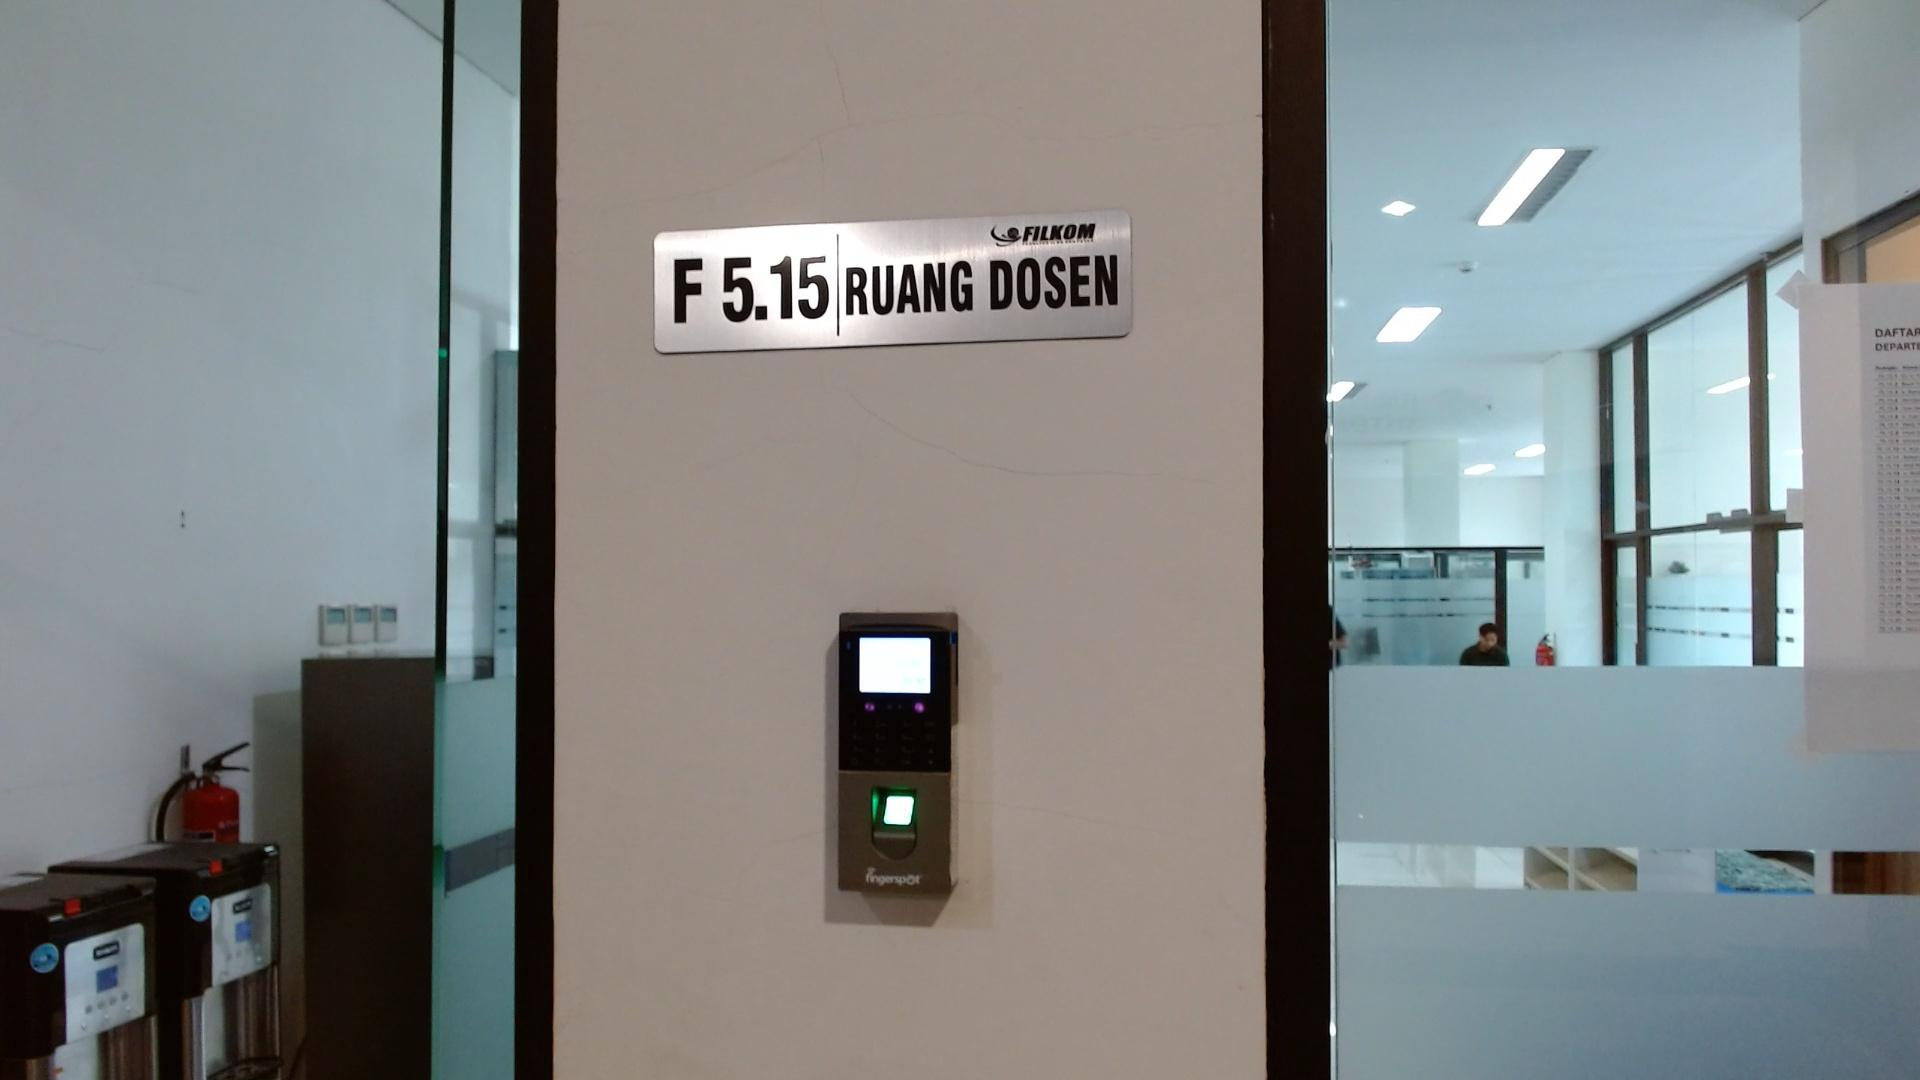plate: (653, 208, 1131, 355)
